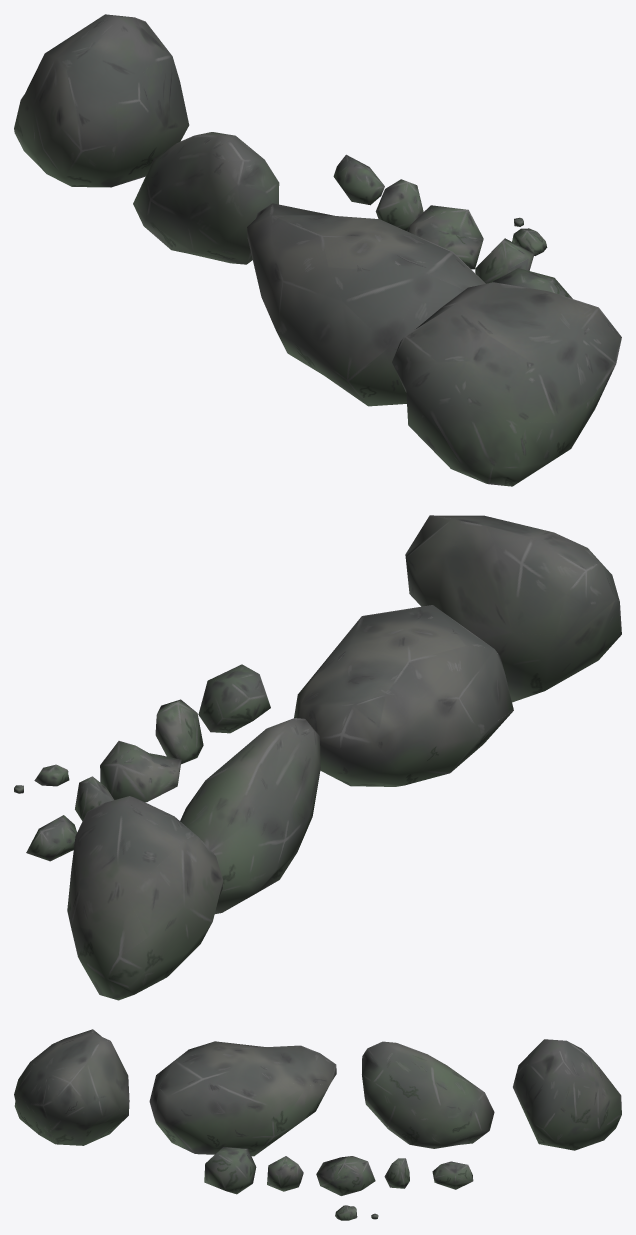
File: rocks_round.fbx
The picture shows the model from 3 angles, top to bottom: view 1: azimuth 30°, elevation 25°; view 2: azimuth 150°, elevation 25°; view 3: azimuth 270°, elevation 25°; orthographic projection. The views are drawn at different scales.
Parts seen in each view (by area): view 1: rock_round_b1, rock_round_b2, rock_round_b4, rock_round_b3, rock_round_m3, rock_round_m4, rock_round_m5, rock_round_m2, rock_round_m1, rock_round_s1; view 2: rock_round_b2, rock_round_b1, rock_round_b4, rock_round_b3, rock_round_m3, rock_round_m1, rock_round_m2, rock_round_m5, rock_round_m4; view 3: rock_round_b2, rock_round_b1, rock_round_b3, rock_round_b4, rock_round_m1, rock_round_m3, rock_round_m2, rock_round_m5, rock_round_m4, rock_round_s1.
Part boxes in pixels (left/top/right/bottom): rock_round_b1: left=392, top=282, right=621, bottom=486; rock_round_b2: left=247, top=203, right=485, bottom=406; rock_round_b4: left=14, top=14, right=189, bottom=187; rock_round_b3: left=133, top=132, right=279, bottom=264; rock_round_m3: left=407, top=205, right=483, bottom=269; rock_round_m4: left=375, top=179, right=423, bottom=230; rock_round_m5: left=333, top=154, right=384, bottom=205; rock_round_m2: left=475, top=238, right=534, bottom=283; rock_round_m1: left=493, top=268, right=572, bottom=298; rock_round_s1: left=512, top=228, right=547, bottom=255; rock_round_b2: left=294, top=605, right=513, bottom=786; rock_round_b1: left=405, top=515, right=621, bottom=702; rock_round_b4: left=67, top=796, right=223, bottom=1000; rock_round_b3: left=180, top=718, right=320, bottom=913; rock_round_m3: left=100, top=741, right=181, bottom=802; rock_round_m1: left=198, top=664, right=270, bottom=733; rock_round_m2: left=155, top=699, right=203, bottom=764; rock_round_m5: left=26, top=815, right=76, bottom=861; rock_round_m4: left=75, top=776, right=113, bottom=821; rock_round_b2: left=149, top=1041, right=336, bottom=1156; rock_round_b1: left=14, top=1029, right=129, bottom=1145; rock_round_b3: left=362, top=1041, right=494, bottom=1148; rock_round_b4: left=513, top=1039, right=621, bottom=1150; rock_round_m1: left=204, top=1147, right=256, bottom=1194; rock_round_m3: left=316, top=1156, right=375, bottom=1195; rock_round_m2: left=267, top=1156, right=303, bottom=1191; rock_round_m5: left=432, top=1161, right=473, bottom=1189; rock_round_m4: left=384, top=1158, right=409, bottom=1188; rock_round_s1: left=335, top=1205, right=357, bottom=1220.
Size of the model in its own units: 511 by 236 by 1210.
